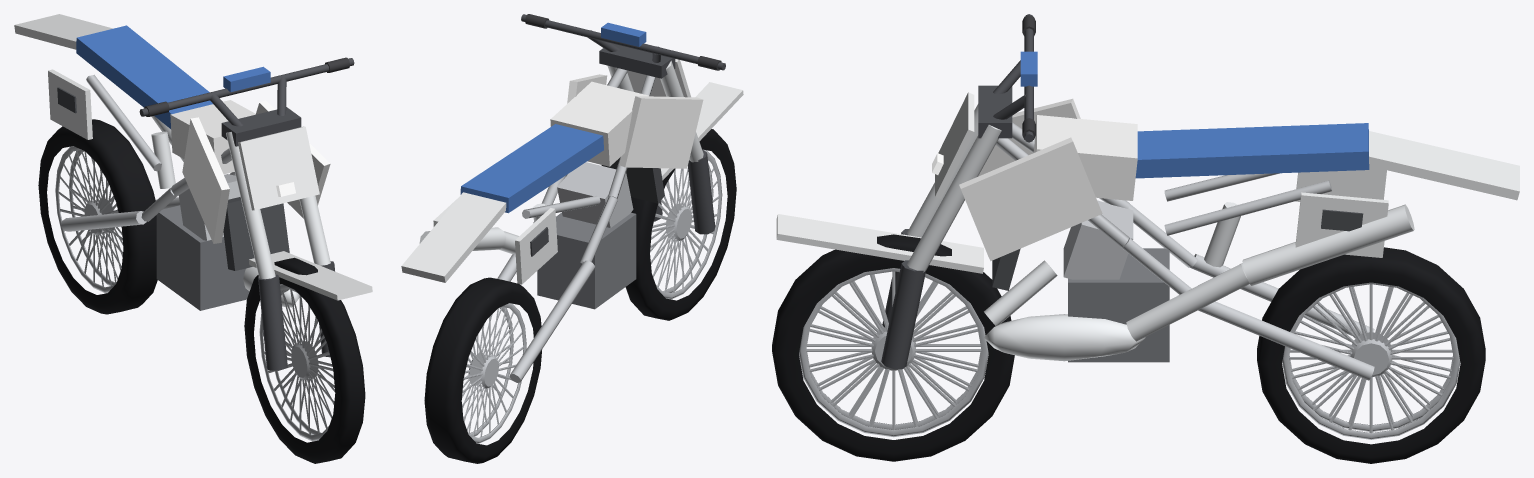
Rendered from yamaha_yz250.lod.glb.
3 views of the same model, side by side, from view 1: azimuth 30°, elevation 25°; view 2: azimuth 150°, elevation 25°; view 3: azimuth 270°, elevation 25° (orthographic). The views are drawn at different scales.
Parts seen in each view (by area): view 1: body_trim (×2), tire (×2), rim (×4), body_paint, body_chrome (×2); view 2: body_trim (×2), tire (×2), body_paint, rim (×4), body_chrome (×2); view 3: body_trim (×2), tire (×2), rim (×4), body_chrome (×2), body_paint.
Part boxes in pixels (box(x1,y1,x2,y2)): body_trim (×2): box(14, 14, 372, 370); tire (×2): box(38, 119, 365, 463); rim (×4): box(55, 146, 334, 441); body_paint: box(170, 100, 330, 243); body_chrome (×2): box(151, 116, 330, 307); body_trim (×2): box(401, 14, 743, 382); tire (×2): box(424, 129, 736, 463); body_paint: box(550, 74, 703, 168); rim (×4): box(462, 149, 722, 443); body_chrome (×2): box(419, 60, 703, 253); body_trim (×2): box(776, 14, 1519, 380); tire (×2): box(772, 234, 1485, 463); rim (×4): box(799, 268, 1460, 439); body_chrome (×2): box(907, 104, 1414, 361); body_paint: box(959, 98, 1137, 261).
Size of the model in its own units: 0.84 by 1.29 by 2.21.
